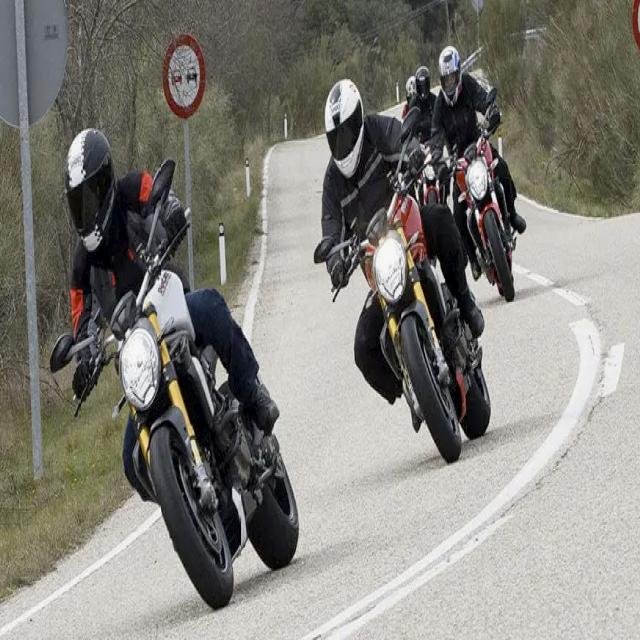MOTORCYCLE: (77, 282, 295, 614), (320, 190, 480, 481)
